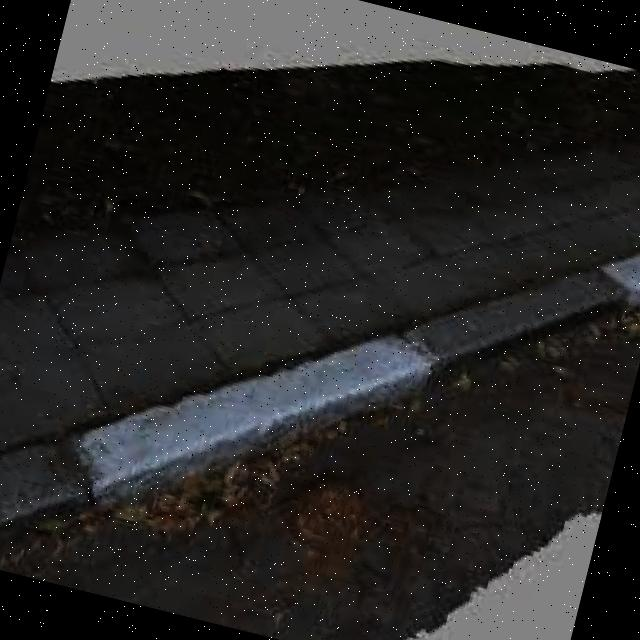curb: (24, 307, 272, 571), (230, 274, 439, 505), (405, 201, 594, 418), (552, 223, 640, 354)
